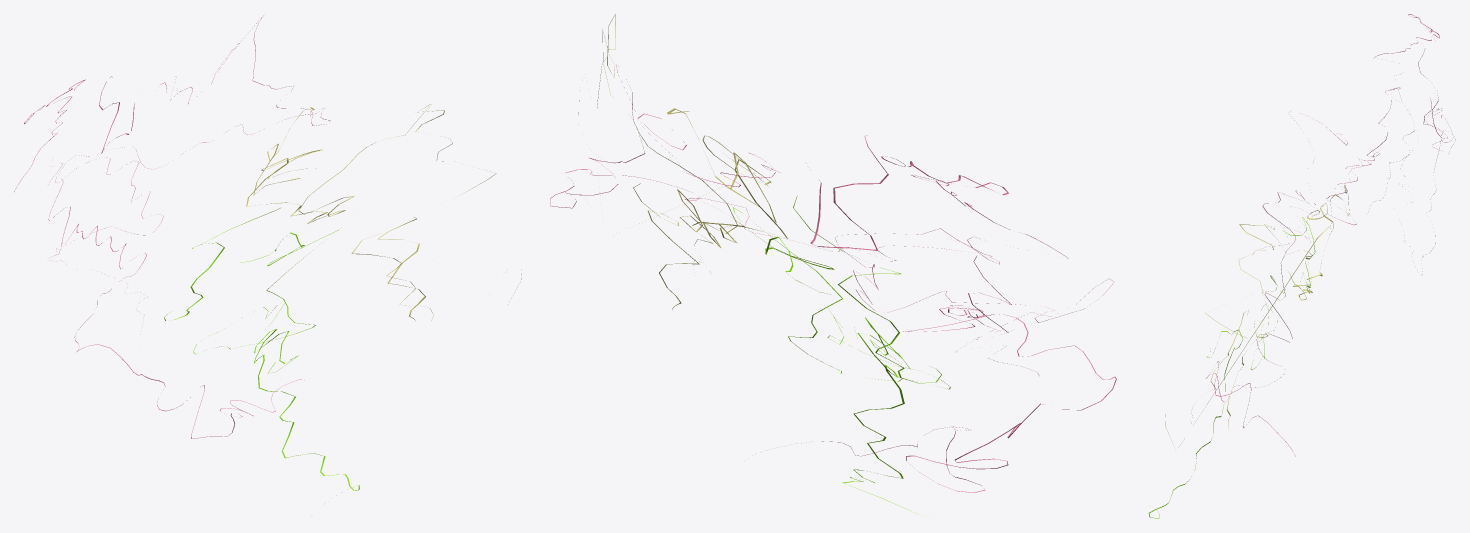
3 renders of one model, left to right at view 1: azimuth 30°, elevation 25°; view 2: azimuth 150°, elevation 25°; view 3: azimuth 270°, elevation 25°, orthographic. The views are drawn at different scales.
Size of the model in its own units: 1.27 by 1.13 by 0.7239.
